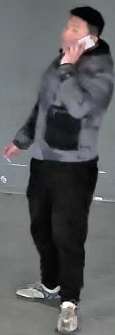phone: (55, 25, 103, 121)
